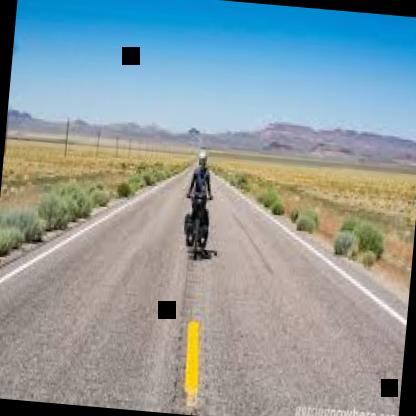car: (177, 138, 229, 271)
